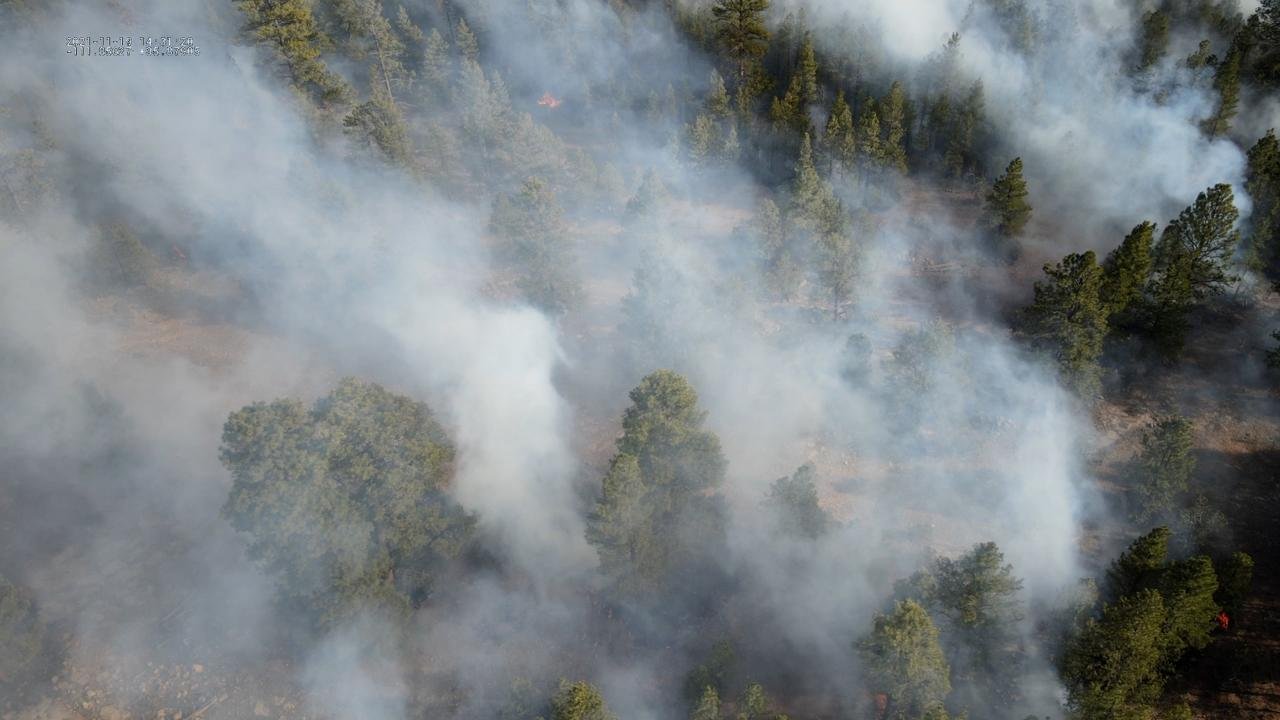fire: (534, 90, 567, 110), (1218, 610, 1230, 629)
smoke: (0, 0, 1280, 720)
